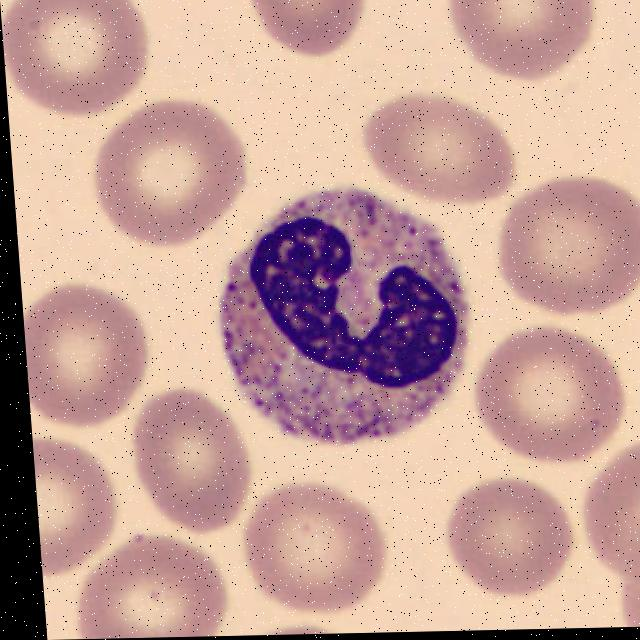neutrophil: (203, 177, 486, 452)
rbc: (473, 332, 626, 465), (21, 285, 158, 428), (498, 182, 640, 317), (4, 0, 159, 120), (126, 392, 258, 532), (235, 489, 382, 612), (439, 470, 574, 598), (105, 110, 245, 229), (353, 100, 516, 202), (78, 536, 232, 639), (33, 446, 117, 571), (450, 0, 596, 70), (575, 442, 640, 590), (247, 0, 370, 52), (606, 564, 640, 627), (250, 626, 353, 635)
